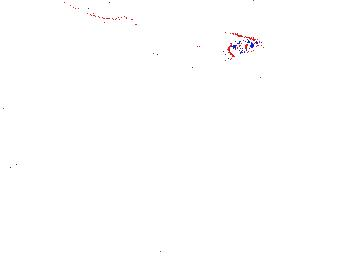X-ray fish: (240, 45, 306, 84)
glassfish: (136, 29, 261, 70)
